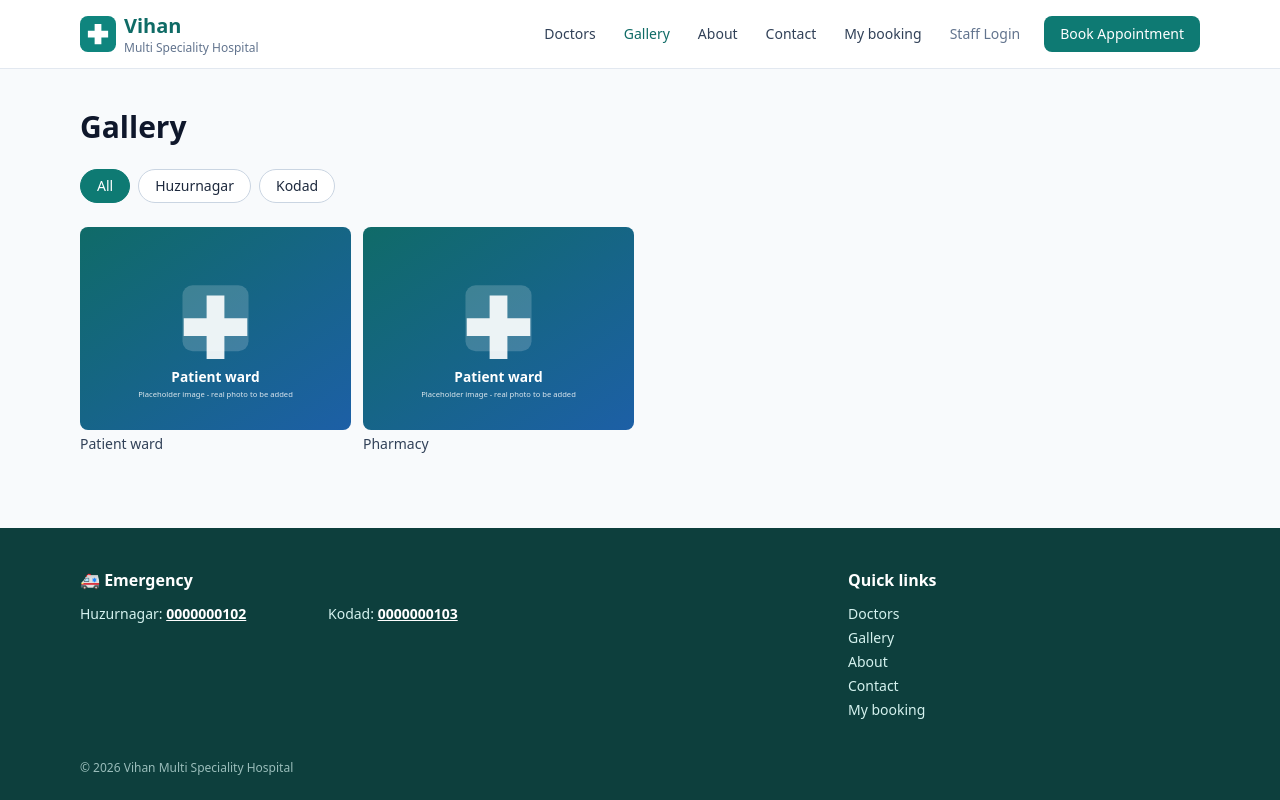
Test: GalleryPage › filters by branch and opens photos in a lightbox
Click the button named "Open photo: Pharmacy". click: (498, 329)
box: [363, 227, 634, 430]
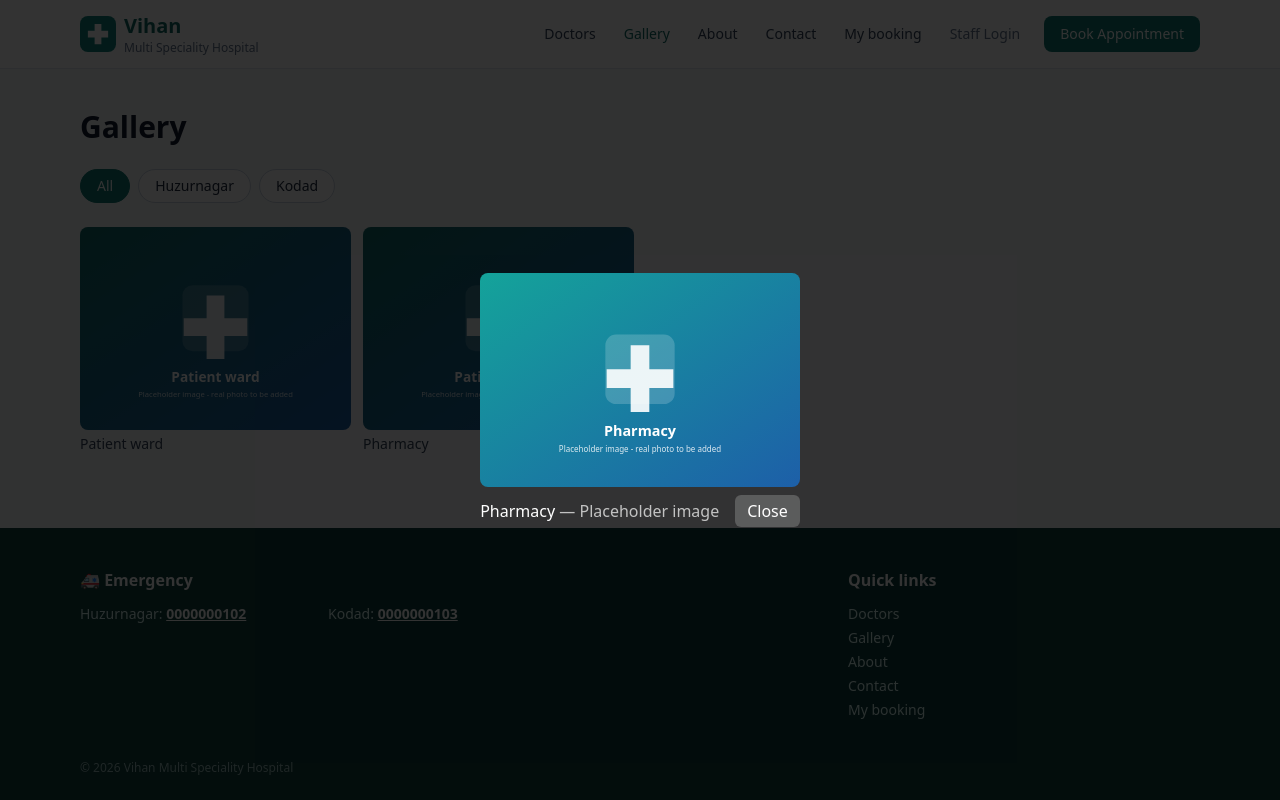
Expected: the dialog "Pharmacy" is shown
Press ArrowRight
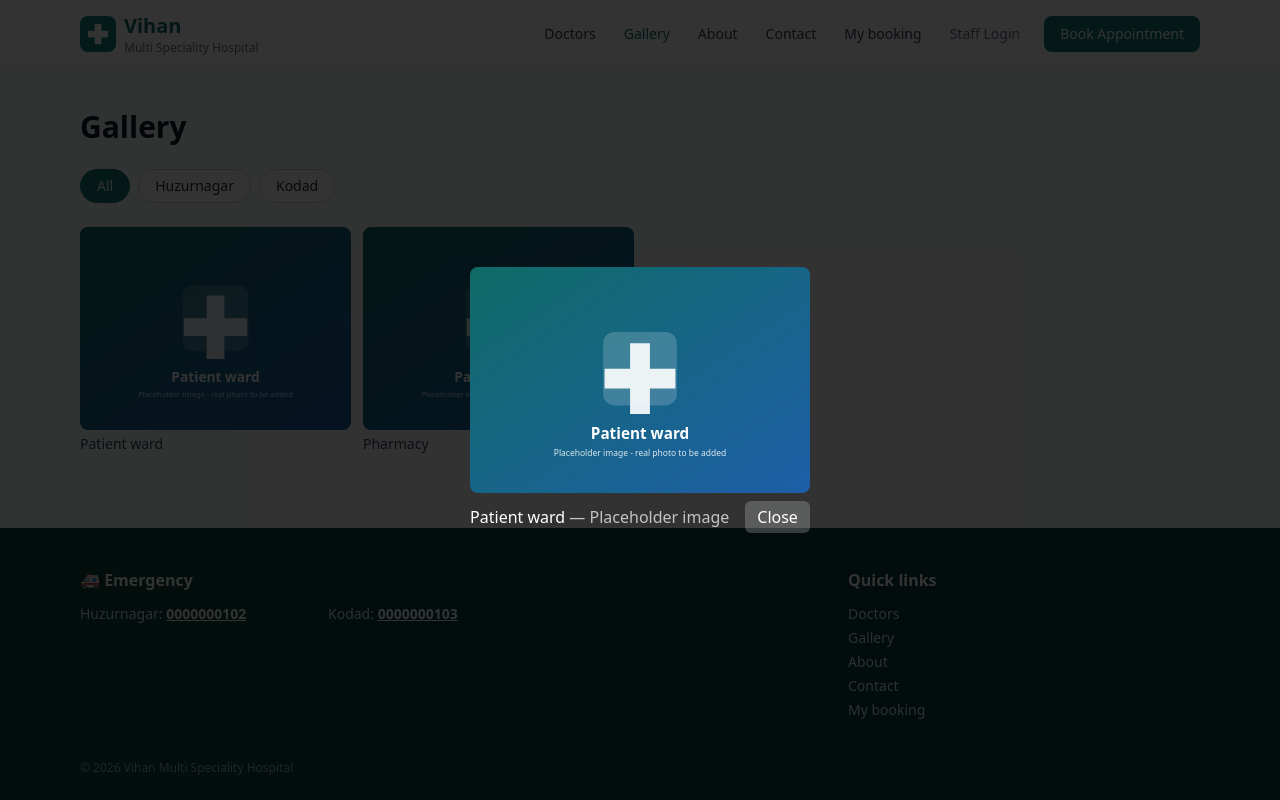
Expected: the dialog "Patient ward" is shown
Press Escape
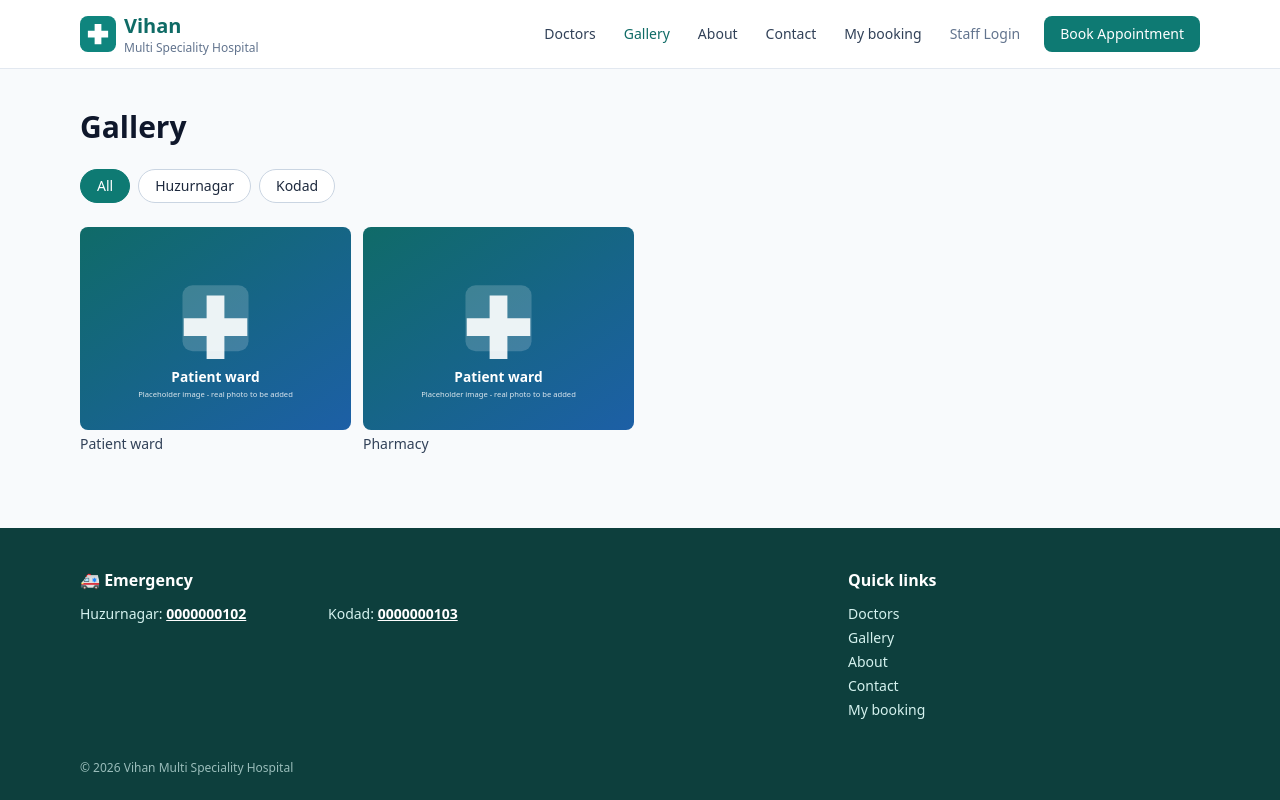
Expected: the dialog is gone
Click the button "Kodad". click: (297, 186)
box: [259, 169, 335, 203]
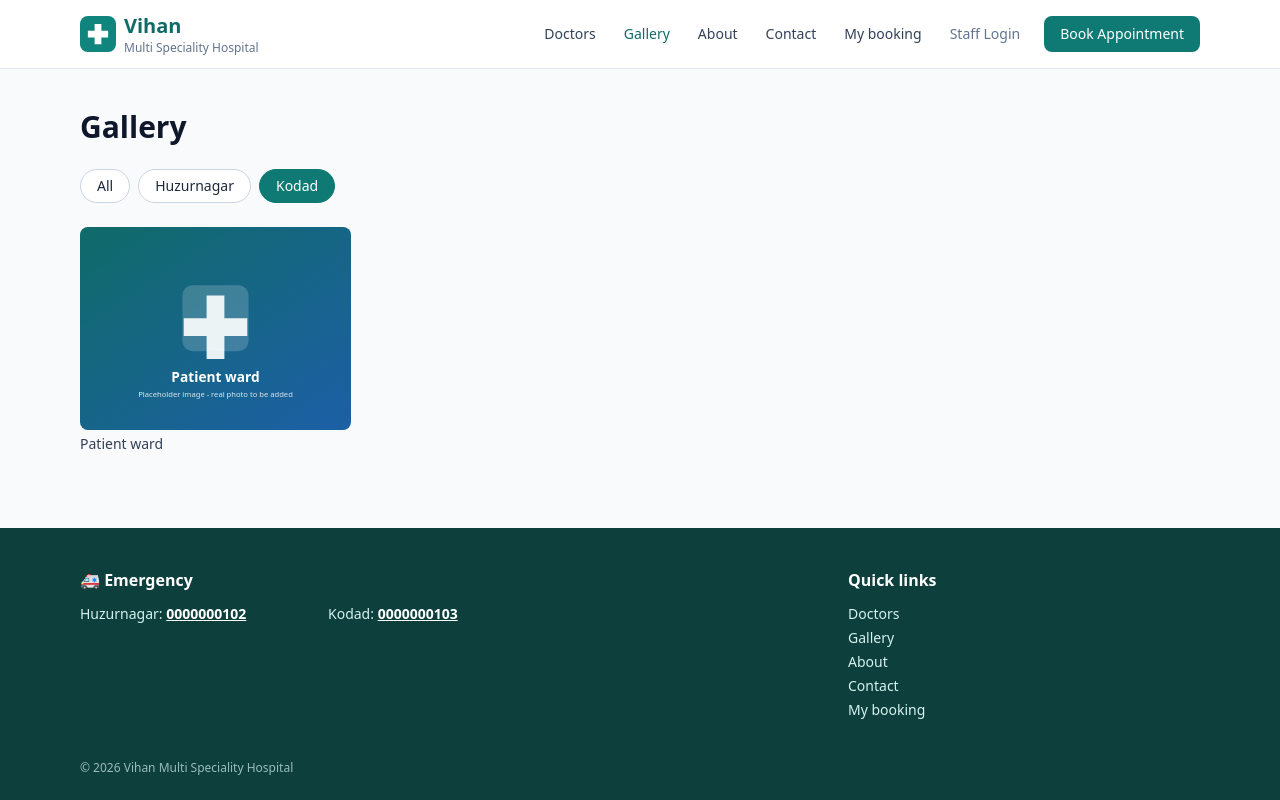
Expected: the picture "Open photo: Pharmacy" is gone
